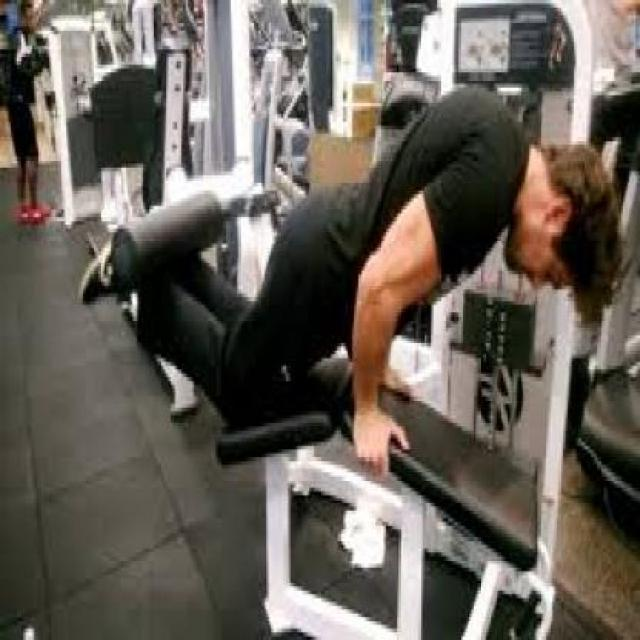reg curl machine: (72, 0, 611, 640)
